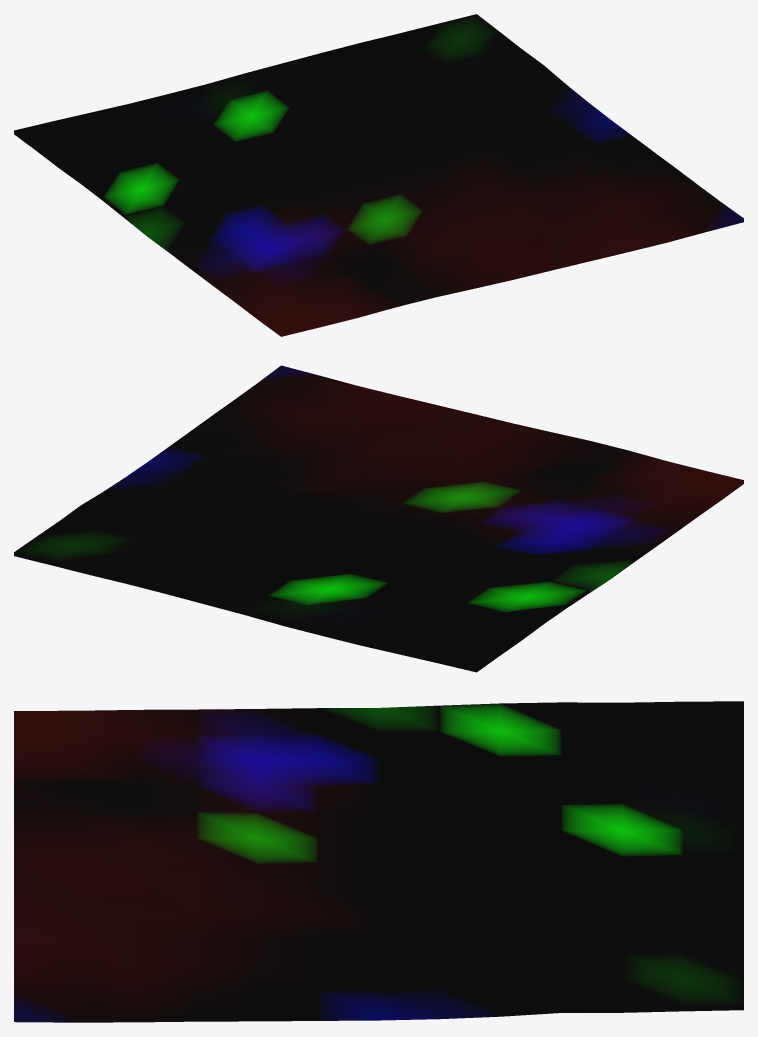
File: coast_0_7.glb
The picture shows the model from 3 angles, top to bottom: view 1: azimuth 30°, elevation 25°; view 2: azimuth 150°, elevation 25°; view 3: azimuth 270°, elevation 25°; orthographic projection. The views are drawn at different scales.
Parts seen in each view (by area): view 1: terrain; view 2: terrain; view 3: terrain.
Boxes of the visible parts, box(x1,y1,x2,y2) form: terrain: box(14, 14, 743, 336); terrain: box(14, 365, 743, 672); terrain: box(14, 701, 743, 1022).
Size of the model in its own units: 192 by 5.89 by 192.
